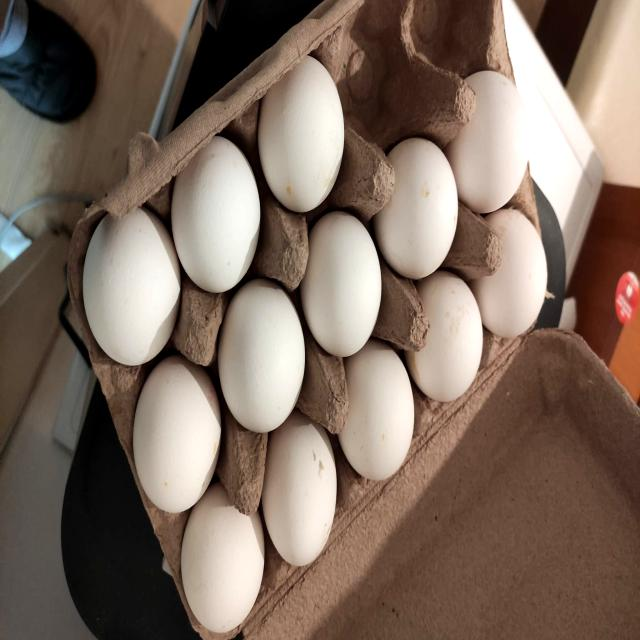egg: (74, 199, 188, 366), (205, 273, 309, 430), (170, 126, 263, 300), (294, 196, 388, 354), (252, 50, 344, 210), (256, 405, 342, 574), (125, 354, 223, 498), (367, 123, 459, 269), (445, 56, 535, 202)
